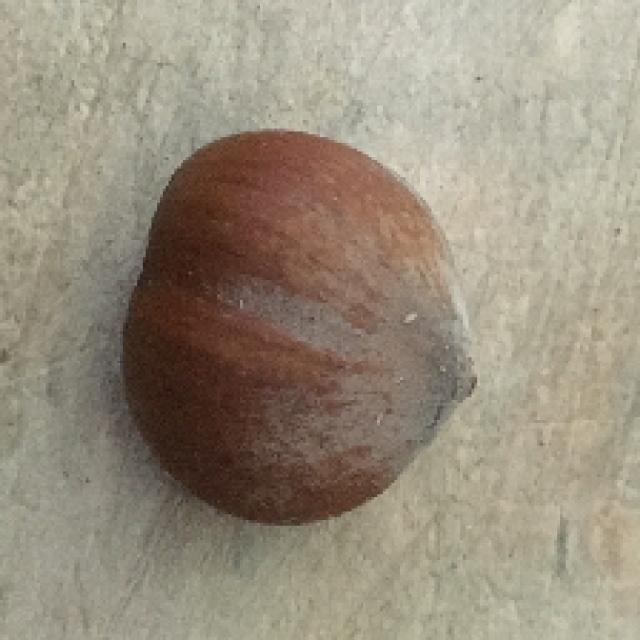qualityHazelnut: (118, 128, 480, 533)
